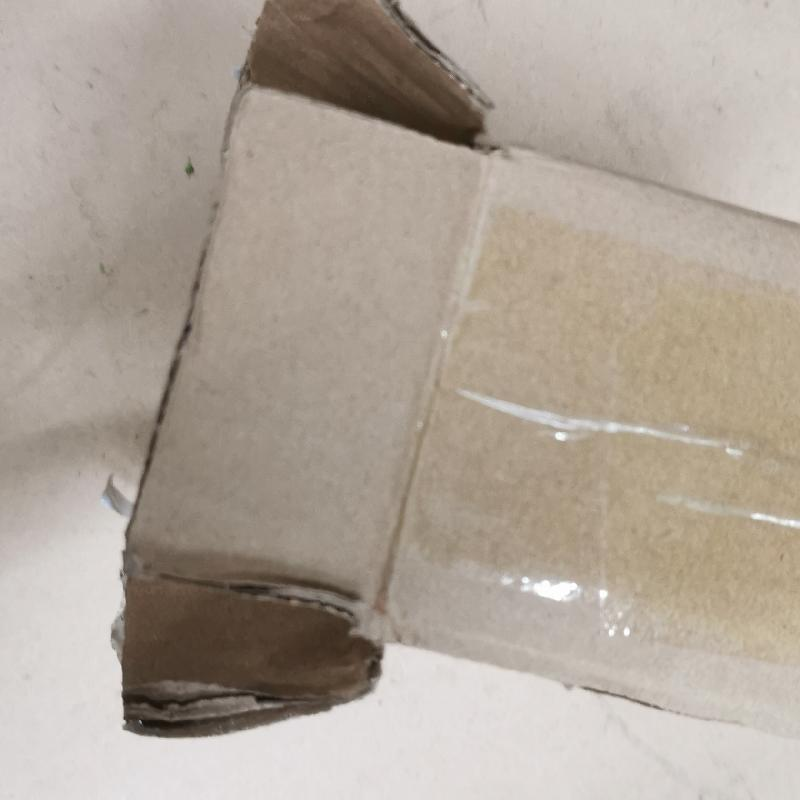boxes: (115, 0, 800, 749)
